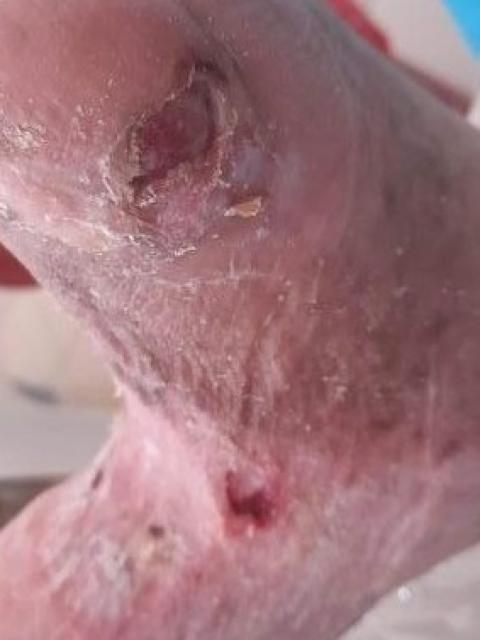wound: (105, 61, 232, 223), (219, 469, 280, 539)
